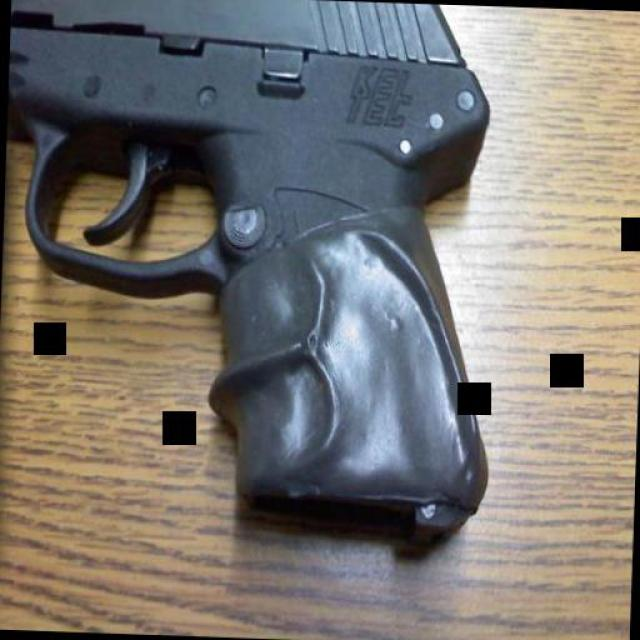gun: (0, 0, 504, 546)
